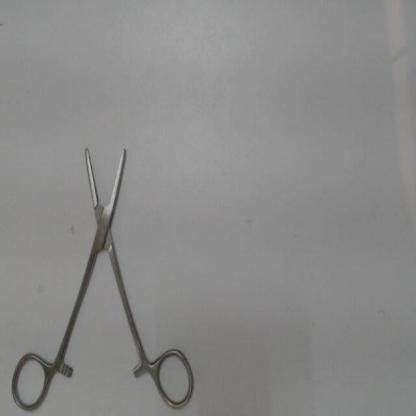Mayo Needle Holder: (6, 131, 201, 413)
